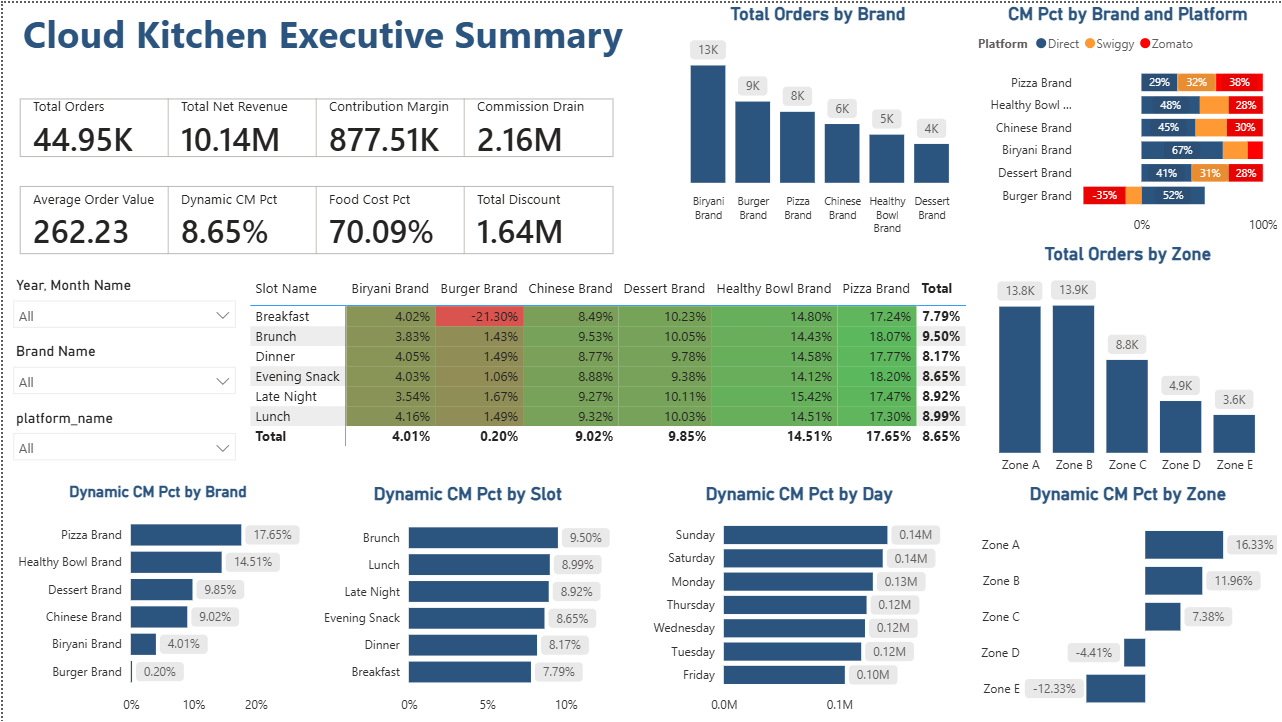

The dashboard page shown, as its layout file describes it:
{"tool":"powerbi","page":{"name":"Executive Summary","canvas":[1280,720],"ordinal":0},"visuals":[{"type":"clusteredBarChart","title":"Dynamic CM Pct by Slot","fields":{"Category":["vw_brand_unit_economics.slot_name"],"Y":["_Measure.Dynamic CM Pct"]},"box":[310,480,310,240],"z":0},{"type":"clusteredBarChart","title":"Dynamic CM Pct by Brand","fields":{"Category":["vw_brand_unit_economics.brand_name"],"Y":["_Measure.Dynamic CM Pct"]},"box":[0,480,310,240],"z":1000},{"type":"clusteredBarChart","title":"Dynamic CM Pct by Day","fields":{"Category":["dim_date.Day Name"],"Y":["_Measure.Total Contribution Margin"]},"box":[640,480,312.5,240],"z":2000},{"type":"pivotTable","fields":{"Columns":["vw_brand_unit_economics.brand_name"],"Rows":["vw_brand_unit_economics.slot_name"],"Values":["_Measures.Dynamic CM Pct"]},"box":[242.5,268.8,727.5,182.5],"z":3000},{"type":"columnChart","title":"Total Orders by Brand","fields":{"Category":["vw_brand_unit_economics.brand_name"],"Y":["_Measure.Total Orders"]},"box":[660,0,310,240],"z":4000},{"type":"columnChart","title":"Total Orders by Zone","fields":{"Category":["vw_brand_unit_economics.zone_name"],"Y":["_Measure.Total Orders"]},"box":[970,240,310,240],"z":5000},{"type":"barChart","title":"Dynamic CM Pct by Zone","fields":{"Category":["vw_brand_unit_economics.zone_name"],"Y":["_Measure.Dynamic CM Pct"]},"box":[970,480,310,240],"z":6000},{"type":"hundredPercentStackedBarChart","title":"CM Pct by Brand and Platform","fields":{"Category":["vw_brand_unit_economics.brand_name"],"Series":["vw_brand_unit_economics.platform_name"],"Y":["_Measure.Total Contribution Margin"]},"box":[970,0,310,240],"z":7000},{"type":"textbox","box":[0,0,640,68.8],"z":8000},{"type":"cardVisual","fields":{"Data":["_Measure.Total Orders","_Measure.Total Net Revenue","_Measure.Total Contribution Margin","_Measure.Platform Commission Drain"]},"box":[0,78.8,630,92.5],"z":9000},{"type":"cardVisual","fields":{"Data":["_Measure.Average Order Value","_Measure.Dynamic CM Pct","_Measure.Food Cost Percentage","_Measure.Total Discount"]},"box":[0,166.2,630,102.5],"z":10000},{"type":"slicer","fields":{"Values":["dim_date.Year","dim_date.Month Name"]},"box":[0,268.8,242.5,66.2],"z":11000},{"type":"slicer","fields":{"Values":["vw_brand_unit_economics.brand_name"]},"box":[0,335,242.5,66.2],"z":12000},{"type":"slicer","fields":{"Values":["vw_brand_unit_economics.platform_name"]},"box":[0,401.2,242.5,66.2],"z":13000}]}

Visuals, with their boxes in screenshot pixels (x1, y1, x2, y2), scaled from the page's 1280x720 canvas onto the 1282x722 screenshot:
"Dynamic CM Pct by Slot" clusteredBarChart: [x1=310, y1=481, x2=621, y2=721]
"Dynamic CM Pct by Brand" clusteredBarChart: [x1=0, y1=481, x2=310, y2=721]
"Dynamic CM Pct by Day" clusteredBarChart: [x1=641, y1=481, x2=954, y2=721]
pivotTable - vw_brand_unit_economics.brand_name x vw_brand_unit_economics.slot_name: [x1=243, y1=270, x2=972, y2=453]
"Total Orders by Brand" columnChart: [x1=661, y1=0, x2=972, y2=241]
"Total Orders by Zone" columnChart: [x1=972, y1=241, x2=1281, y2=481]
"Dynamic CM Pct by Zone" barChart: [x1=972, y1=481, x2=1281, y2=721]
"CM Pct by Brand and Platform" hundredPercentStackedBarChart: [x1=972, y1=0, x2=1281, y2=241]
textbox: [x1=0, y1=0, x2=641, y2=69]
cardVisual - _Measure.Total Orders x _Measure.Total Net Revenue: [x1=0, y1=79, x2=631, y2=172]
cardVisual - _Measure.Average Order Value x _Measure.Dynamic CM Pct: [x1=0, y1=167, x2=631, y2=269]
slicer - dim_date.Year x dim_date.Month Name: [x1=0, y1=270, x2=243, y2=336]
slicer - vw_brand_unit_economics.brand_name: [x1=0, y1=336, x2=243, y2=402]
slicer - vw_brand_unit_economics.platform_name: [x1=0, y1=402, x2=243, y2=469]
